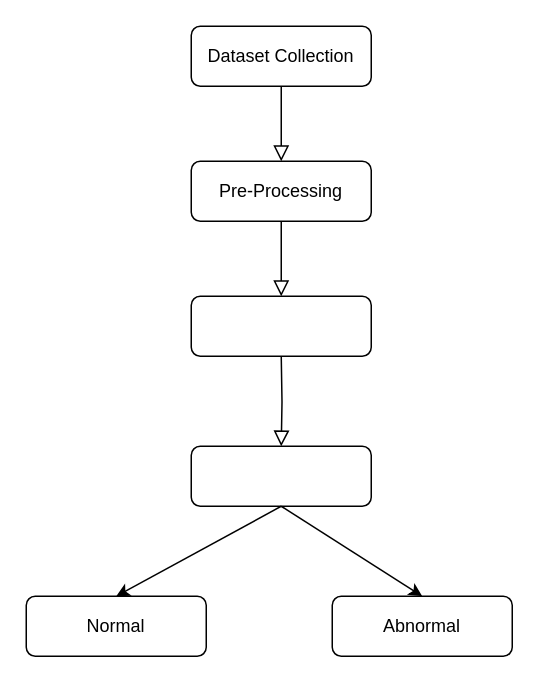
Some shapes in this 539 by 683 pixel diagram are drawn without their labels. The shapes that lost their labels are listed below. From the top down, each one's centre as x and y in pixels, then its label:
[280,325]: Augumentation
[280,475]: Classifier
